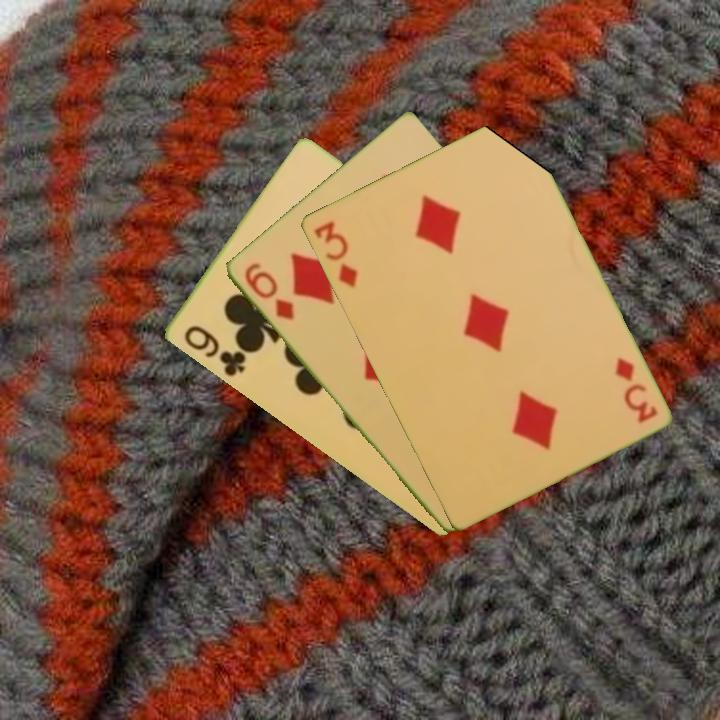3d: (309, 217, 360, 291), (610, 354, 660, 426)
6d: (240, 259, 297, 324)
9c: (180, 322, 248, 380)
